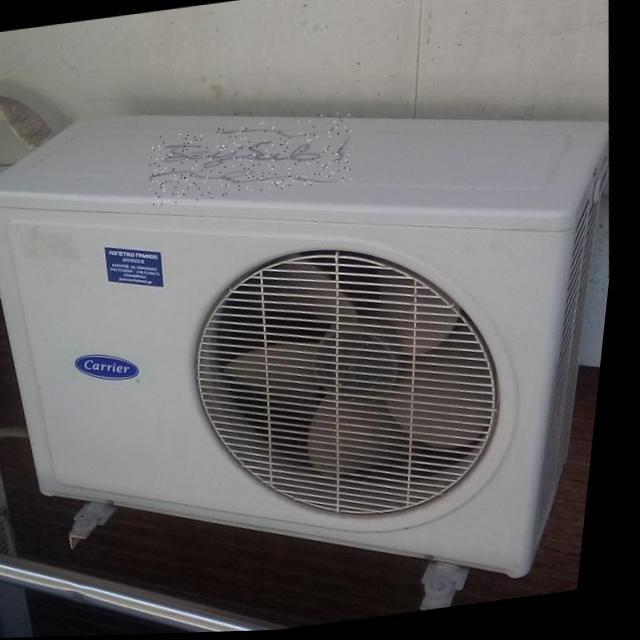-: (147, 111, 360, 208)
